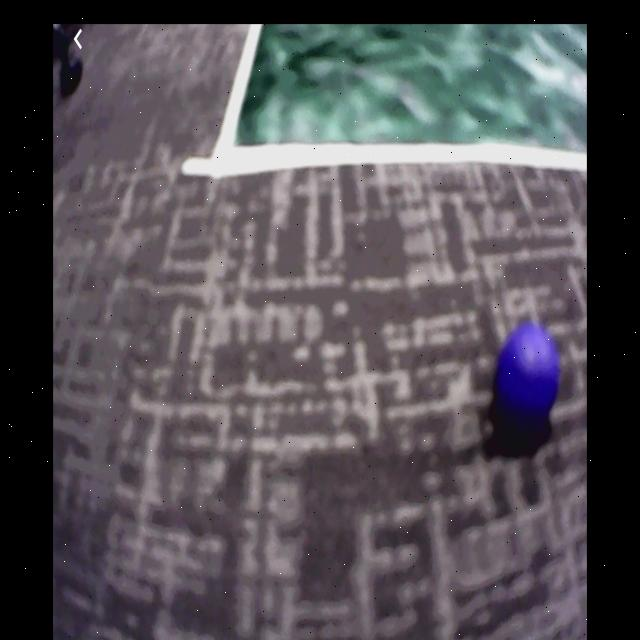ball: (500, 327, 560, 431)
